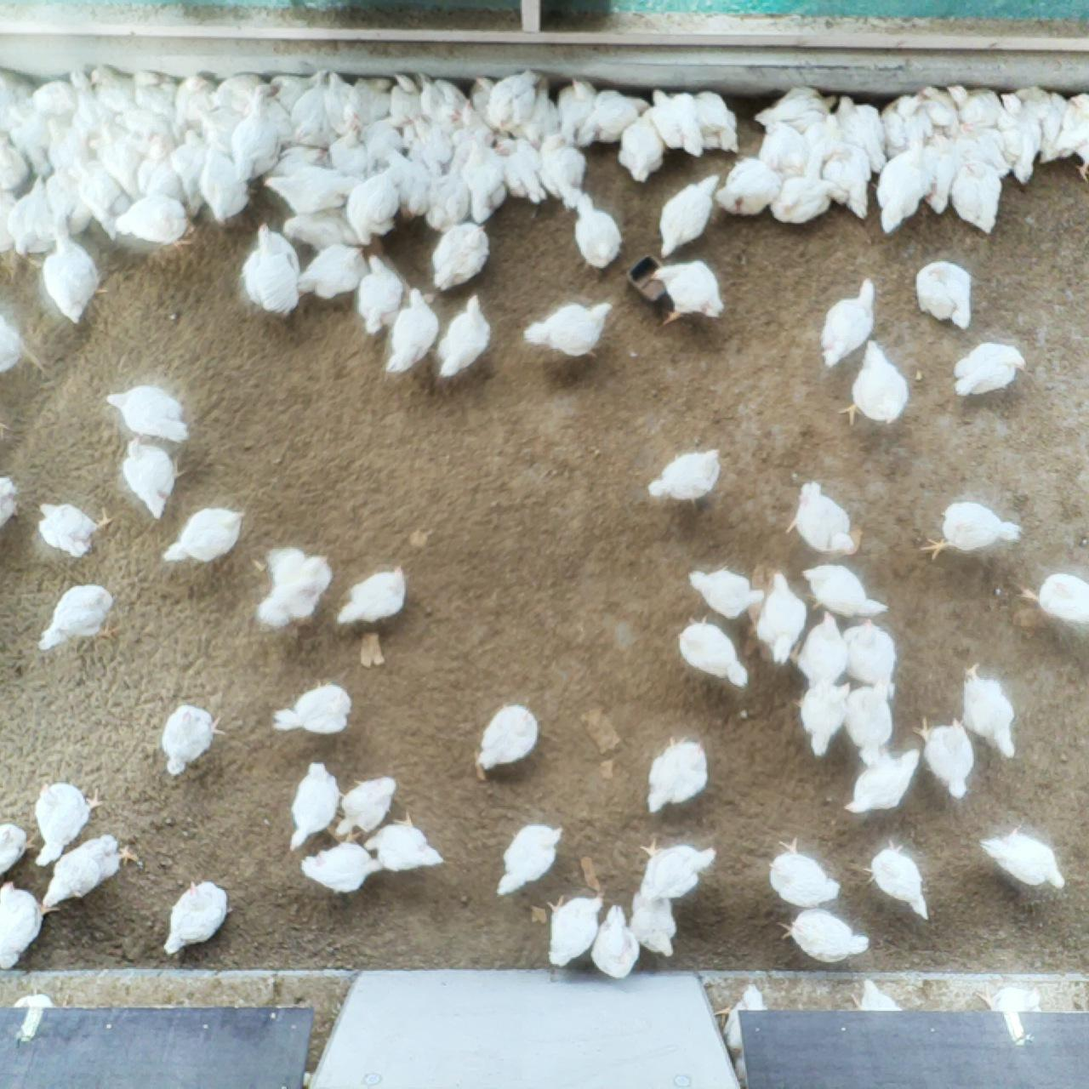chicken: (252, 543, 335, 638), (42, 832, 141, 910), (917, 496, 1023, 563), (42, 227, 110, 328), (837, 337, 911, 427), (32, 779, 105, 869), (974, 825, 1069, 894), (238, 221, 304, 320), (33, 582, 123, 653), (957, 661, 1021, 760), (121, 435, 192, 524), (858, 837, 931, 922), (100, 381, 195, 446), (360, 807, 449, 874), (764, 833, 842, 909), (910, 713, 976, 802), (656, 171, 721, 261), (677, 612, 753, 688), (297, 829, 385, 894), (160, 504, 248, 569), (112, 192, 196, 260), (0, 878, 60, 972), (781, 480, 857, 554), (647, 257, 725, 329), (817, 275, 877, 368), (632, 835, 719, 899), (286, 759, 345, 853), (522, 301, 616, 360), (644, 733, 710, 817), (842, 747, 921, 817), (260, 164, 362, 217), (163, 878, 230, 958), (334, 563, 411, 632), (436, 292, 495, 382), (469, 701, 540, 775), (267, 677, 356, 736), (799, 562, 891, 619), (494, 821, 562, 898), (161, 699, 226, 778), (197, 139, 256, 226), (385, 287, 441, 378), (230, 90, 283, 185), (36, 499, 118, 560), (546, 890, 609, 969), (756, 570, 808, 665), (713, 983, 766, 1076), (790, 679, 852, 758), (789, 609, 851, 688), (843, 675, 896, 766), (951, 339, 1030, 400), (992, 90, 1042, 186), (911, 258, 974, 333), (576, 86, 653, 147), (4, 173, 59, 258), (840, 618, 897, 700), (571, 191, 626, 275), (646, 447, 722, 507), (332, 774, 400, 841), (872, 147, 923, 236), (685, 563, 764, 620), (345, 166, 401, 245), (643, 87, 704, 159), (834, 94, 888, 175), (714, 157, 785, 218), (355, 252, 405, 338), (431, 222, 490, 294), (768, 175, 850, 226), (949, 158, 1003, 235), (298, 245, 372, 301), (591, 902, 643, 981), (67, 162, 121, 238), (822, 140, 873, 220), (1011, 572, 1089, 624), (460, 135, 506, 223), (447, 97, 496, 177), (754, 85, 839, 131), (93, 120, 143, 196), (168, 125, 211, 213), (538, 133, 587, 210), (66, 69, 113, 147), (494, 137, 547, 206), (688, 87, 741, 156), (402, 135, 445, 219), (93, 121, 140, 197), (282, 206, 362, 250), (618, 114, 667, 185), (630, 890, 679, 959), (881, 93, 933, 158), (135, 135, 186, 201), (947, 82, 1015, 131), (44, 168, 93, 235), (491, 67, 538, 136), (414, 73, 470, 130), (954, 123, 1013, 176), (9, 109, 53, 178), (1038, 92, 1078, 165), (175, 74, 218, 141), (923, 134, 958, 216), (324, 70, 368, 135), (0, 311, 43, 377), (801, 112, 844, 178), (269, 66, 329, 113), (758, 121, 809, 176), (362, 113, 410, 171), (131, 66, 178, 121), (424, 173, 466, 234), (41, 115, 90, 167), (88, 64, 141, 112), (402, 116, 452, 166), (114, 105, 178, 144), (288, 80, 326, 144), (30, 76, 79, 125), (561, 77, 598, 141), (195, 103, 244, 151), (973, 980, 1042, 1012), (211, 72, 272, 108), (0, 819, 37, 878), (527, 80, 560, 146), (329, 121, 370, 174), (918, 85, 961, 135), (1065, 93, 1089, 182), (271, 144, 332, 176), (352, 75, 392, 123), (386, 70, 423, 121), (847, 975, 901, 1009), (0, 132, 31, 191), (0, 73, 26, 132), (0, 475, 25, 535), (1012, 84, 1053, 120), (470, 75, 493, 122)
